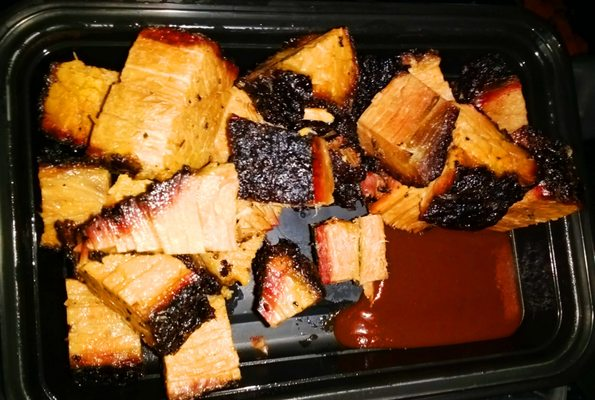pizza: (335, 225, 524, 350)
